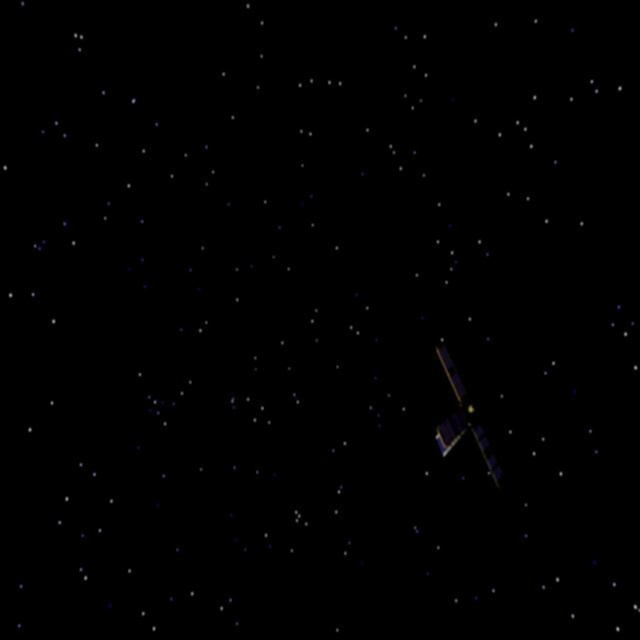satellite: (416, 330, 516, 500)
